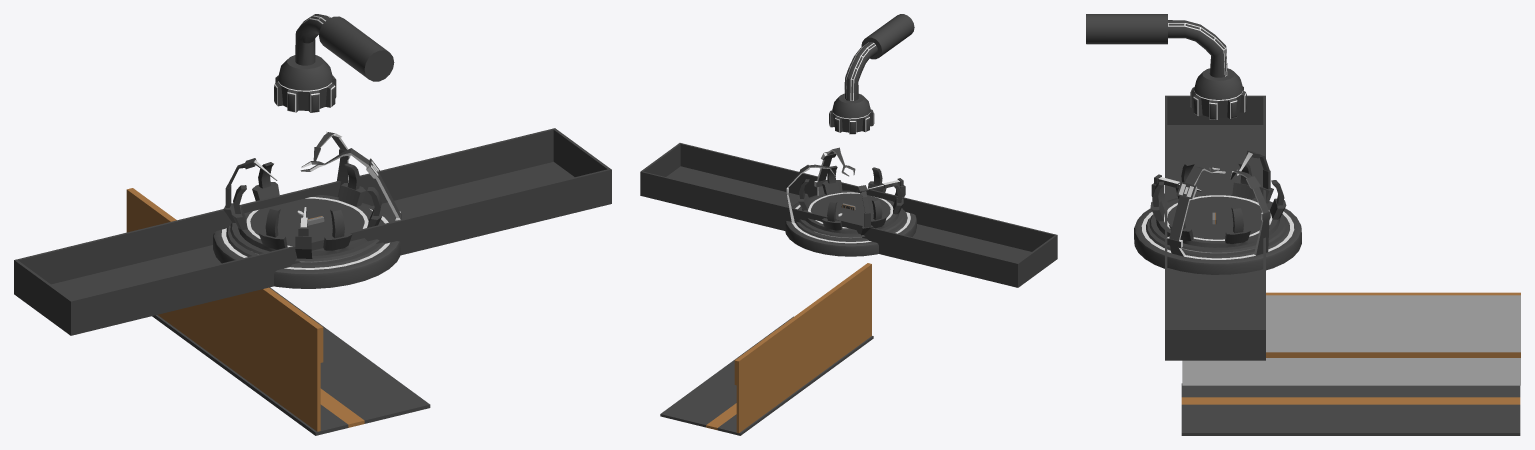
File: SM_Buttom_Cube.fbx
3 views of the same model, side by side, from view 1: azimuth 30°, elevation 25°; view 2: azimuth 150°, elevation 25°; view 3: azimuth 270°, elevation 25° (orthographic). The views are drawn at different scales.
Visible parts, largest first — view 1: SM_Button_Cube, SM_BackGround, Cube.001; view 2: SM_Button_Cube, Cube.001, SM_BackGround; view 3: Cube.001, SM_BackGround, SM_Button_Cube.
Part boxes in pixels (x1,y1,x2,y2): SM_Button_Cube: (14, 128, 611, 335); SM_BackGround: (213, 14, 401, 288); Cube.001: (126, 188, 430, 435); SM_Button_Cube: (640, 143, 1057, 287); Cube.001: (660, 263, 873, 435); SM_BackGround: (785, 14, 916, 256); Cube.001: (1181, 292, 1520, 435); SM_BackGround: (1086, 14, 1301, 274); SM_Button_Cube: (1165, 95, 1265, 360).
Size of the model in its own units: 33 by 24.63 by 25.86.
